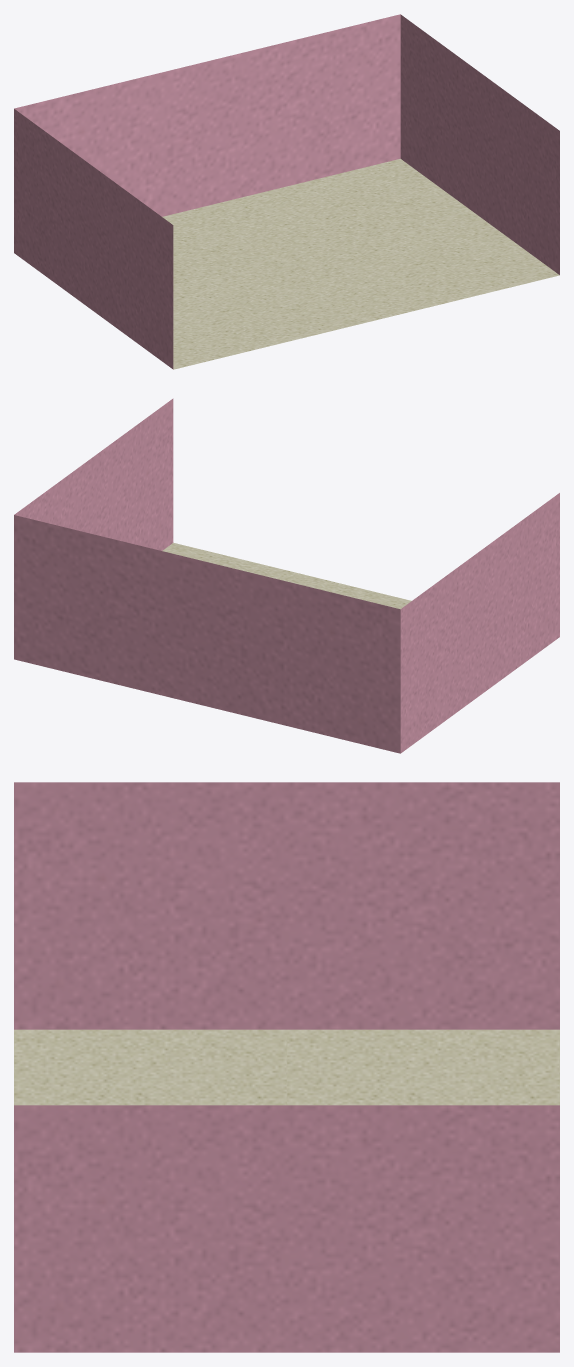
Rendered from Bedroom.fbx.
3 views of the same model, one above another, from view 1: azimuth 30°, elevation 25°; view 2: azimuth 150°, elevation 25°; view 3: azimuth 270°, elevation 25° (orthographic). The views are drawn at different scales.
Visible parts, largest first — view 1: Plane; view 2: Plane; view 3: Plane.
Boxes of the visible parts, left/top/right/bottom form: Plane: left=14, top=14, right=559, bottom=369; Plane: left=14, top=398, right=559, bottom=753; Plane: left=14, top=782, right=559, bottom=1352.
Bounding box in the file's own units: 14 × 5 × 10.
